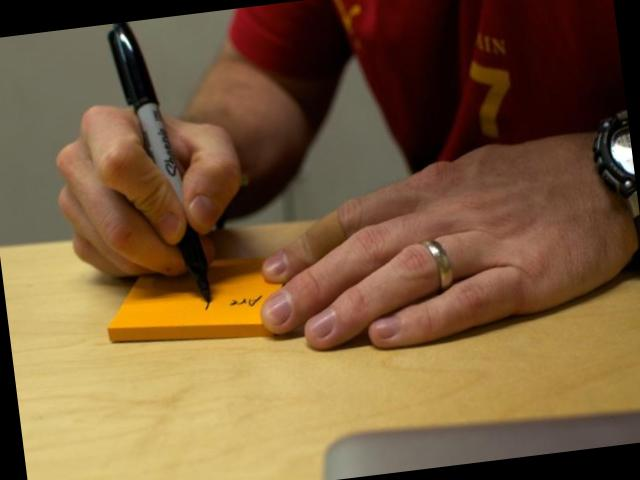PEN: (99, 18, 222, 321)
